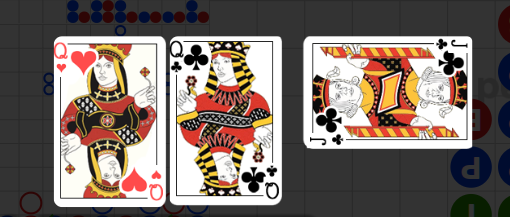9H: (149, 169, 164, 202)
JC: (308, 133, 345, 148), (434, 38, 469, 52)
QC: (171, 36, 215, 83), (238, 157, 282, 203)
